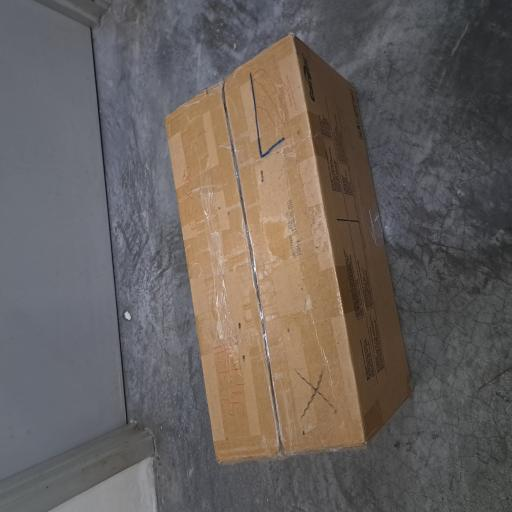cardboard: (37, 219, 358, 512)
